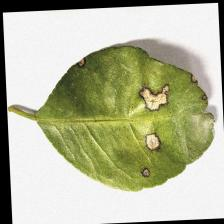canker: (124, 73, 216, 163)
